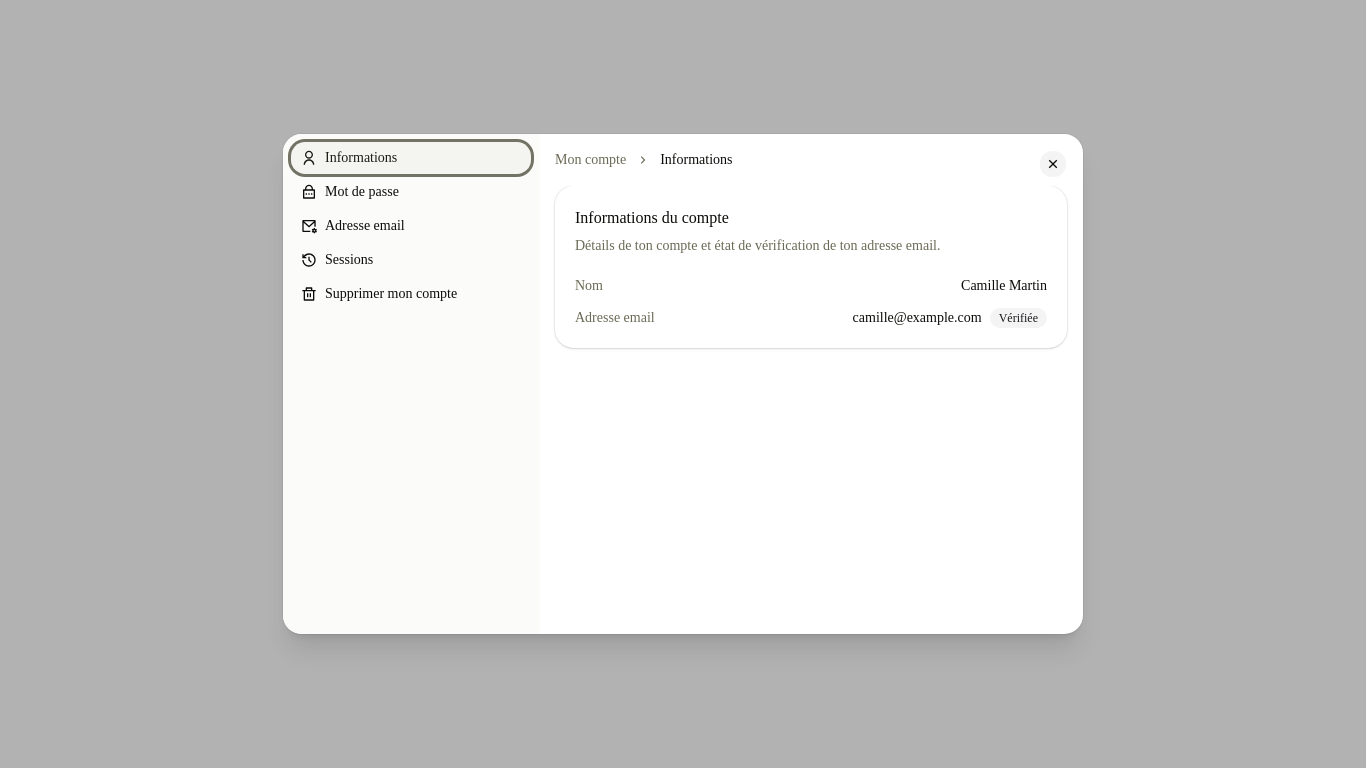
Test: AccountDialog › switches the pane when another section is chosen
What coordinates should you click on to do the following:
click the button "Mot de passe"
I would click on:
 (411, 192)
Its box is left=291, top=176, right=531, bottom=208.
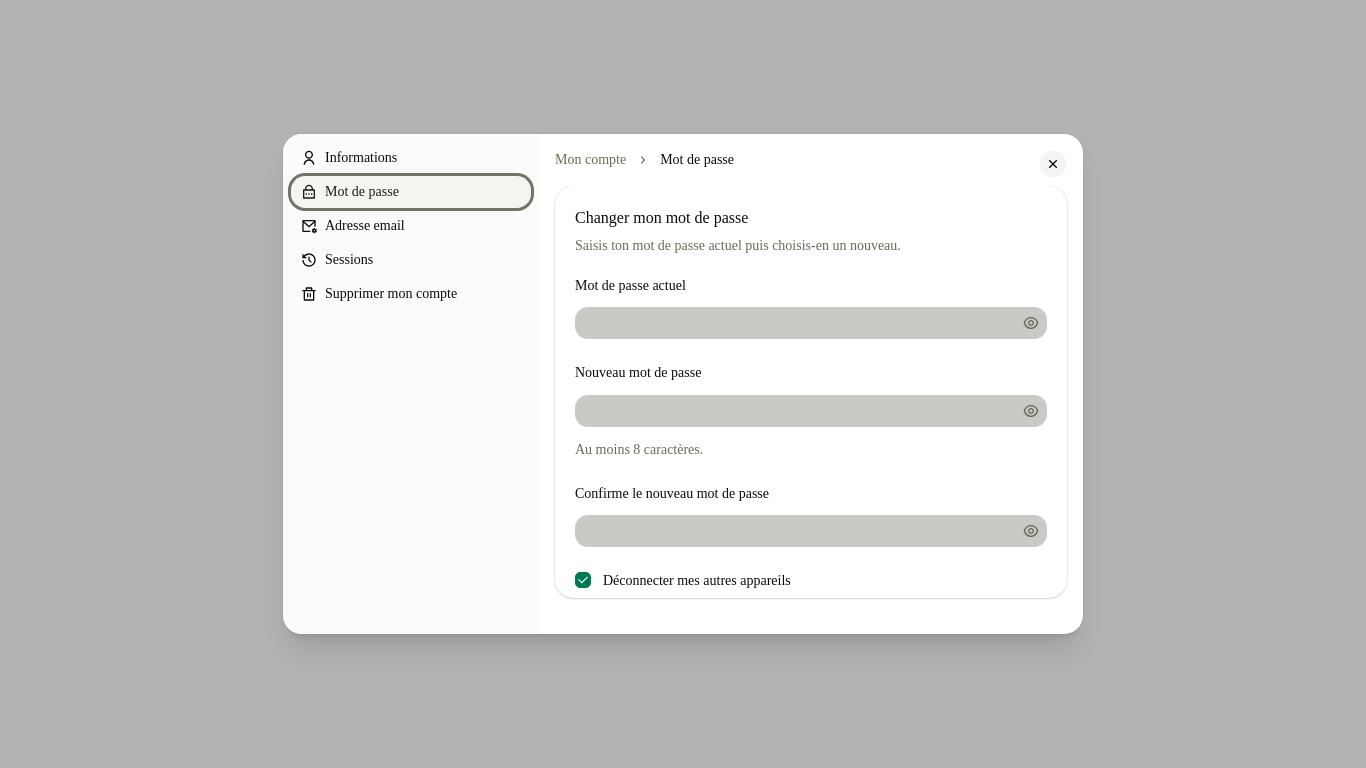
Expected: the text "Changer mon mot de passe" is shown, left=575, top=209, right=748, bottom=226
